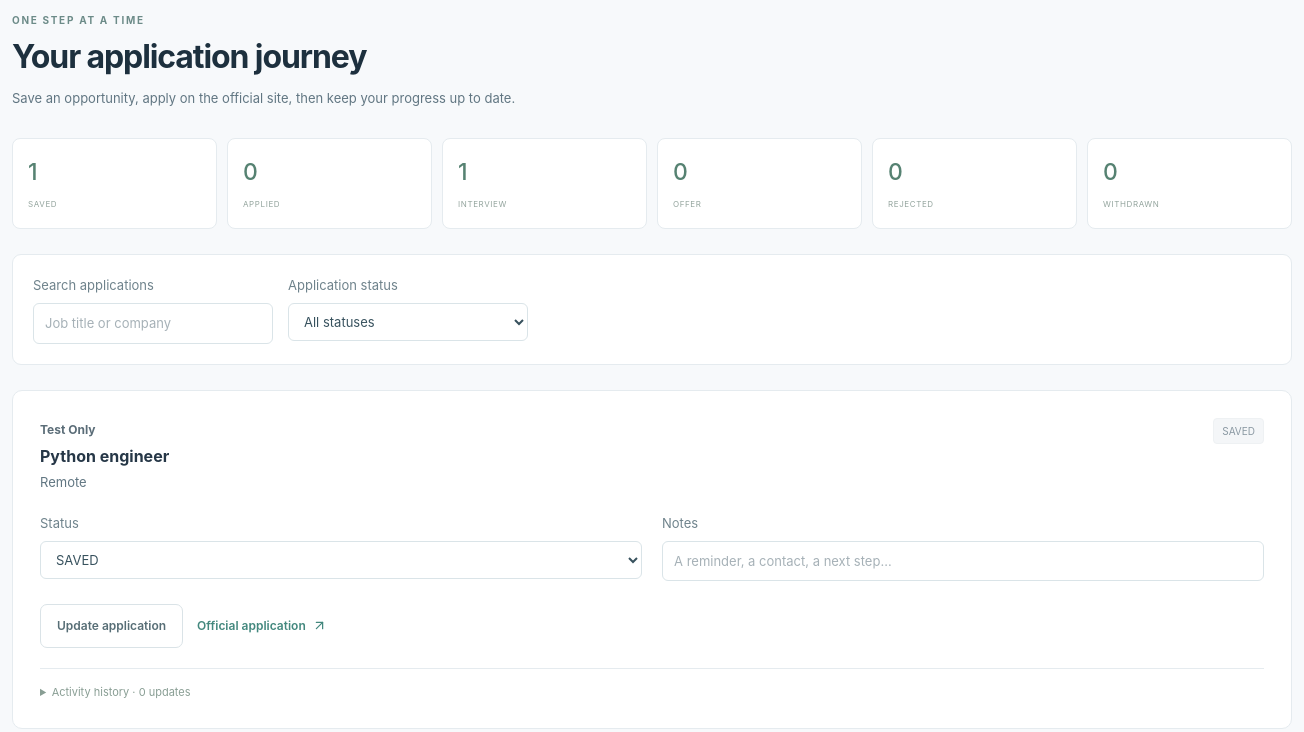
it: filters applications by status without changing persisted records
Select "INTERVIEW" in the dropdown labelled "Application status": (408, 322) [288,303,528,341]
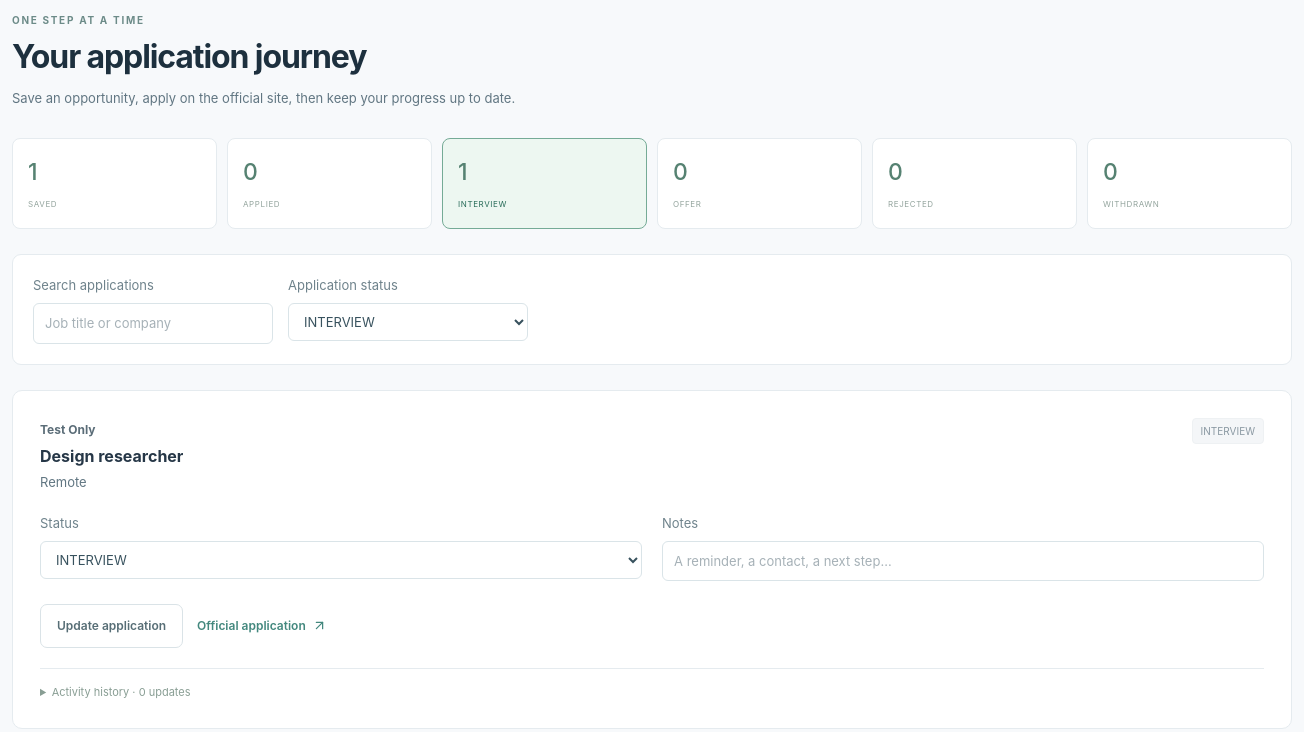
Expected: the link "Design researcher" is shown, [40,446,183,466]
Expected: the link "Python engineer" is gone
